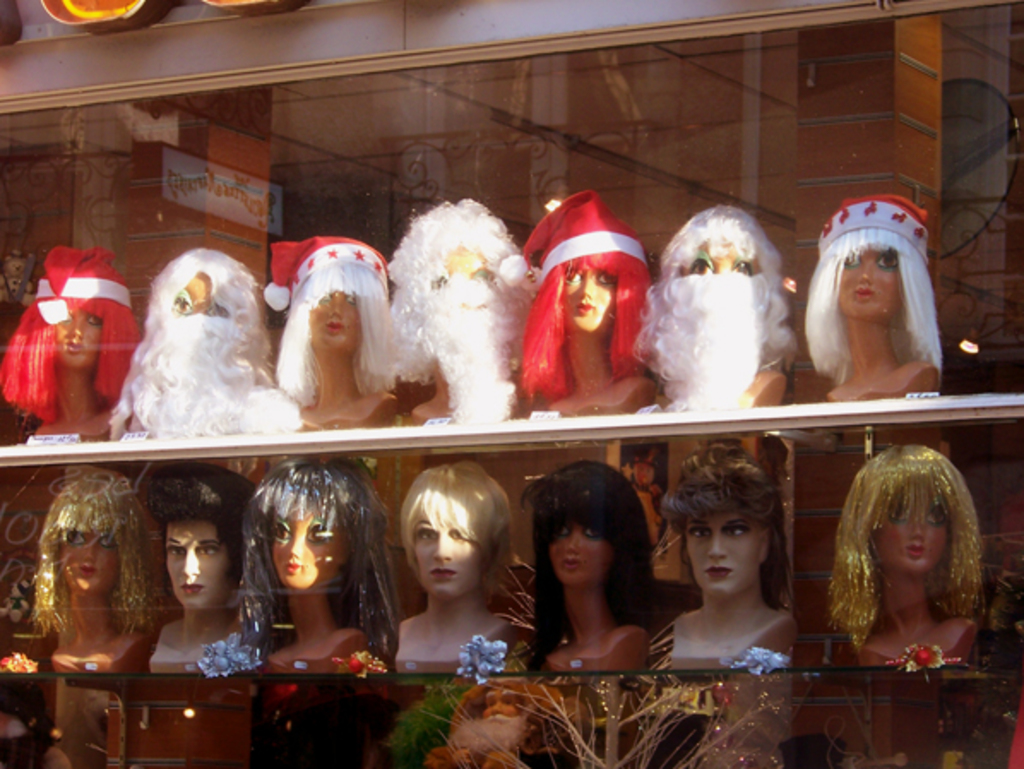face: (544, 501, 617, 584)
